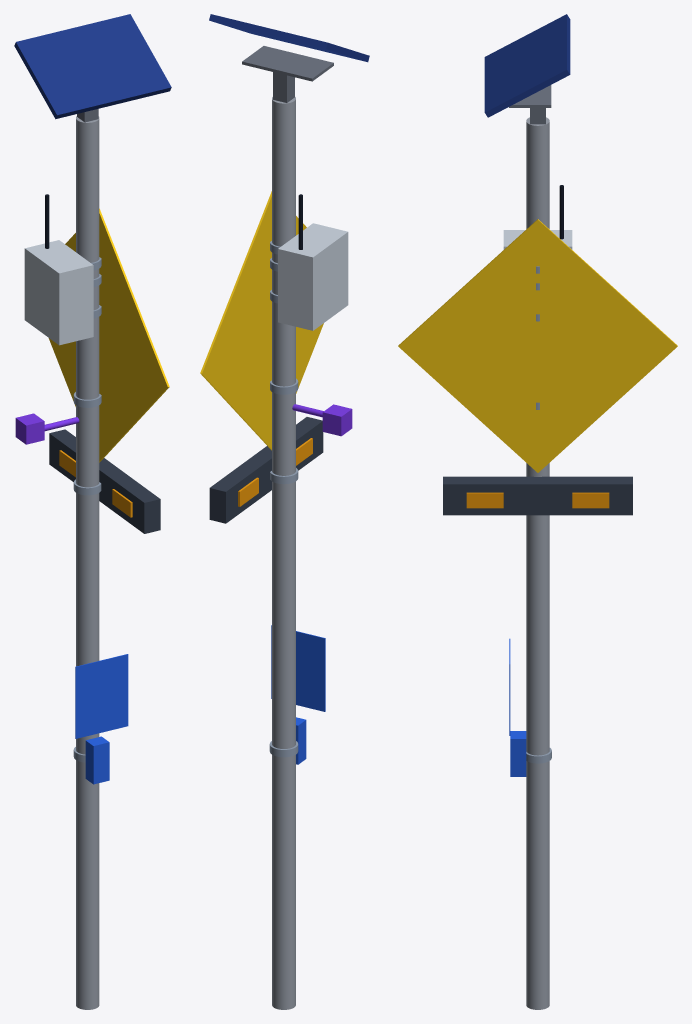
The picture shows the model from 3 angles, left to right: view 1: azimuth 30°, elevation 25°; view 2: azimuth 150°, elevation 25°; view 3: azimuth 270°, elevation 25°; orthographic projection. The views are drawn at different scales.
Visible parts, largest first — view 1: Post, 89 mm (or existing pole), Solar panel, 20 W, Crossing warning sign, 750 mm, Enclosure, IP65, Push-button station, Light bar housing, double sided, Presence radar on arm, Pole clamps, Amber LED heads (4); view 2: Post, 89 mm (or existing pole), Crossing warning sign, 750 mm, Enclosure, IP65, Light bar housing, double sided, Push-button station, Panel bracket, Solar panel, 20 W, Pole clamps, Presence radar on arm, Amber LED heads (4); view 3: Crossing warning sign, 750 mm, Post, 89 mm (or existing pole), Light bar housing, double sided, Solar panel, 20 W, Amber LED heads (4), Push-button station, Panel bracket.
Part boxes in pixels (x1,y1,x2,y2): Post, 89 mm (or existing pole): (76,116,99,1009); Solar panel, 20 W: (14,14,171,119); Crossing warning sign, 750 mm: (48,208,169,462); Enclosure, IP65: (24,240,93,345); Push-button station: (75,654,128,784); Light bar housing, double sided: (49,429,160,533); Presence radar on arm: (15,413,79,444); Pole clamps: (73,257,101,762); Amber LED heads (4): (59,450,132,517); Post, 89 mm (or existing pole): (272,97,295,1009); Crossing warning sign, 750 mm: (200,191,323,450); Enclosure, IP65: (278,223,348,330); Light bar housing, double sided: (209,417,323,523); Push-button station: (271,625,325,764); Panel bracket: (242,46,333,102); Solar panel, 20 W: (209,14,369,62); Pole clamps: (269,241,298,757); Presence radar on arm: (292,404,352,436); Amber LED heads (4): (238,438,312,506); Crossing warning sign, 750 mm: (398,219,677,472); Post, 89 mm (or existing pole): (526,117,549,1009); Light bar housing, double sided: (443,476,632,515); Solar panel, 20 W: (484,14,570,117); Amber LED heads (4): (466,492,609,508); Push-button station: (509,638,526,776); Panel bracket: (509,85,551,124).
Bounding box in the file's own units: 0.53 × 4.03 × 1.06.
